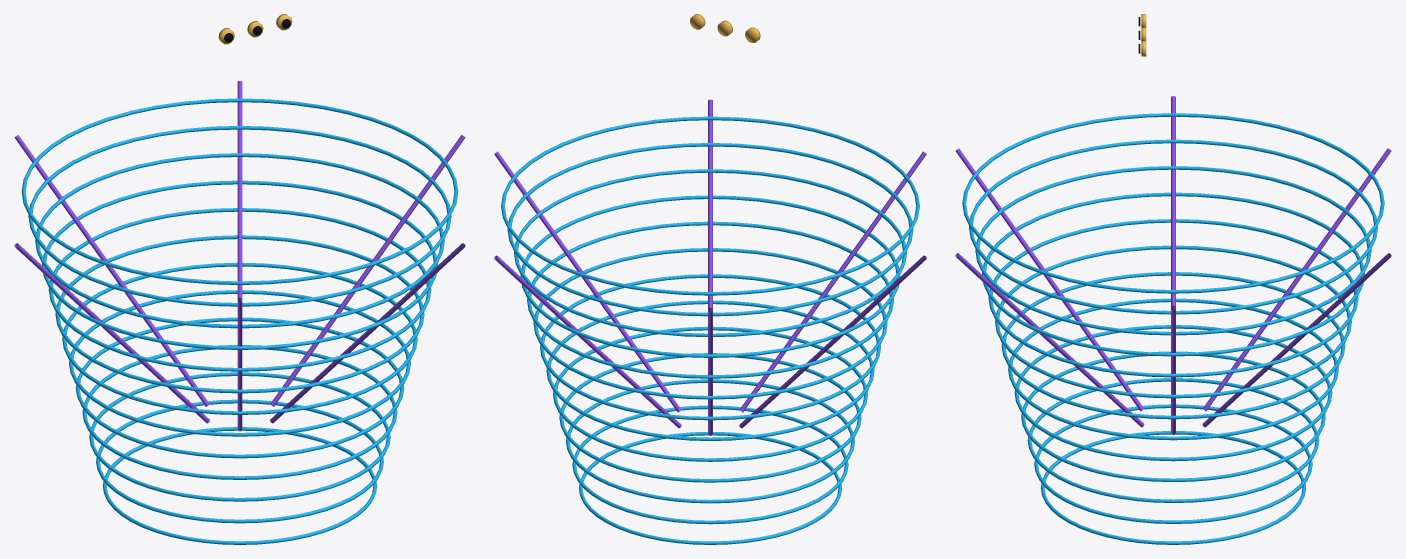
File: 11_L93_ElementalHolographicArchive.fbx
3 views of the same model, side by side, from view 1: azimuth 30°, elevation 25°; view 2: azimuth 150°, elevation 25°; view 3: azimuth 270°, elevation 25° (orthographic). The views are drawn at different scales.
Visible parts, largest first — view 1: L92_ElementalHolographicArchive_Part_0000, L92_ElementalHolographicArchive_Part_0001; view 2: L92_ElementalHolographicArchive_Part_0000, L92_ElementalHolographicArchive_Part_0001; view 3: L92_ElementalHolographicArchive_Part_0000, L92_ElementalHolographicArchive_Part_0001.
Part boxes in pixels (bbox=[...]): L92_ElementalHolographicArchive_Part_0000: bbox=[21, 98, 458, 544]; L92_ElementalHolographicArchive_Part_0001: bbox=[14, 81, 465, 431]; L92_ElementalHolographicArchive_Part_0000: bbox=[501, 116, 919, 544]; L92_ElementalHolographicArchive_Part_0001: bbox=[494, 99, 926, 435]; L92_ElementalHolographicArchive_Part_0000: bbox=[962, 113, 1384, 544]; L92_ElementalHolographicArchive_Part_0001: bbox=[955, 96, 1391, 434].
Bounding box in the file's own units: 423 × 428 × 367.
